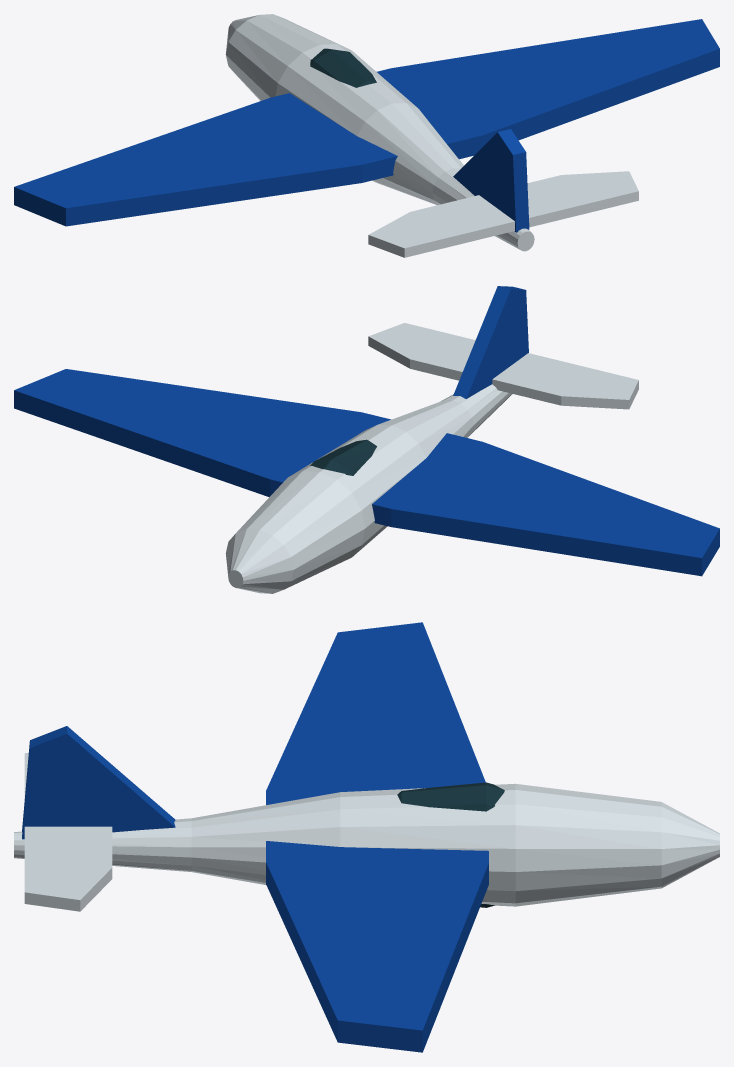
File: fixedwing.obj
3 views of the same model, one above another, from view 1: azimuth 30°, elevation 25°; view 2: azimuth 150°, elevation 25°; view 3: azimuth 270°, elevation 25° (orthographic). The views are drawn at different scales.
Bounding box in the file's own units: 3.64 × 0.73 × 2.66.
